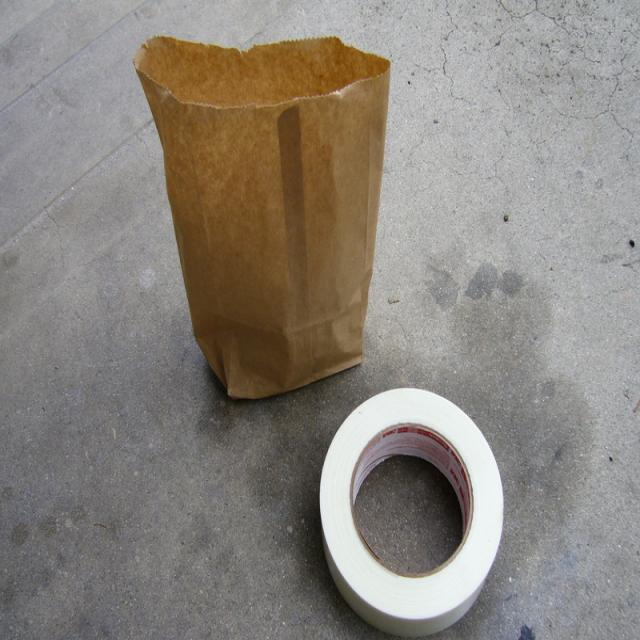paper - tape: (320, 389, 503, 636)
paper bag: (135, 38, 390, 397)
